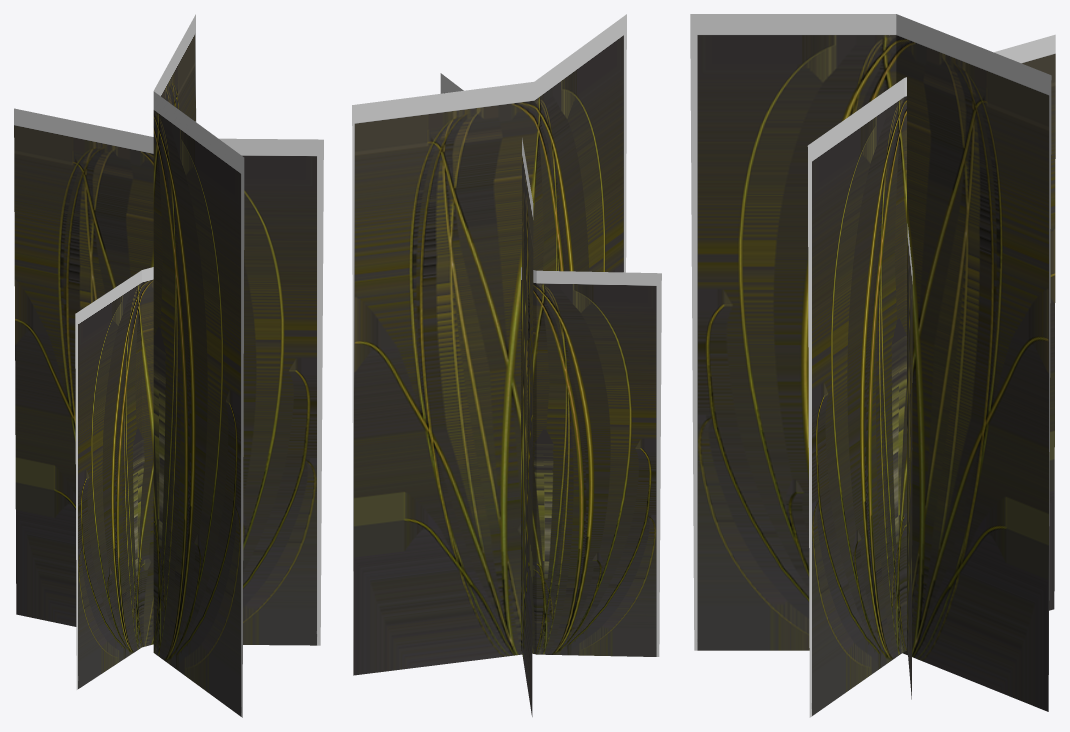
The model's file is small_foliage_02.glb.
The picture shows the model from 3 angles, left to right: view 1: azimuth 30°, elevation 25°; view 2: azimuth 150°, elevation 25°; view 3: azimuth 270°, elevation 25°; orthographic projection. The views are drawn at different scales.
Visible parts, largest first — view 1: Plane.116; view 2: Plane.116; view 3: Plane.116.
Part boxes in pixels (x1,y1,x2,y2): Plane.116: [14, 14, 323, 717]; Plane.116: [352, 14, 661, 716]; Plane.116: [690, 14, 1055, 717].
Bounding box in the file's own units: 0.4803 × 1.11 × 0.5753.
Materials: 1 (1 with a texture image).
